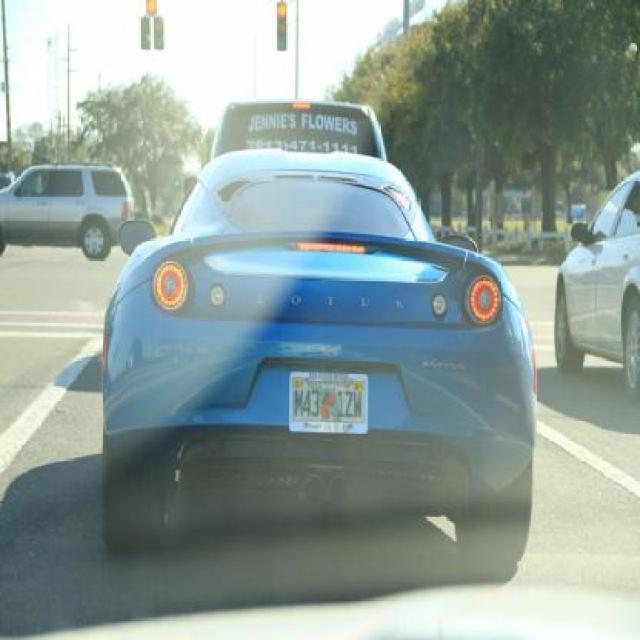Licenseplate: (286, 368, 366, 432)
